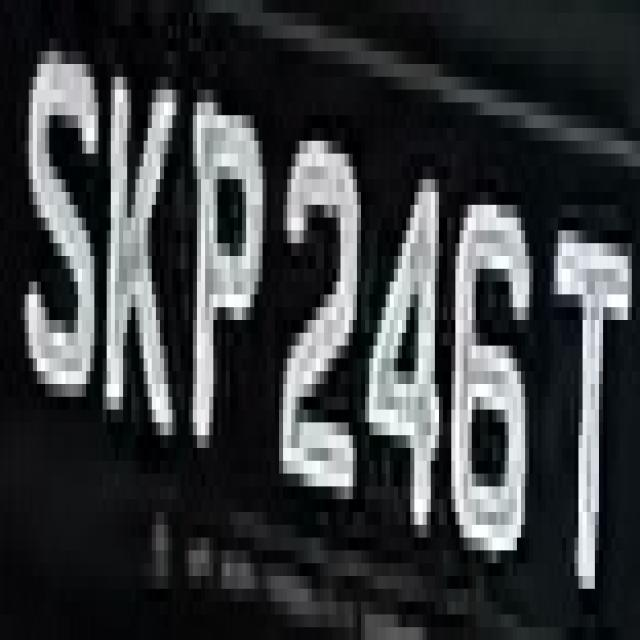2: (271, 90, 369, 538)
4: (370, 115, 456, 550)
6: (447, 167, 538, 628)
K: (99, 26, 184, 473)
P: (188, 64, 270, 486)
S: (12, 13, 103, 461)
T: (529, 166, 640, 614)
